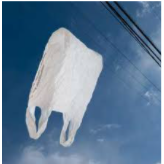kantong: (25, 26, 104, 148)
